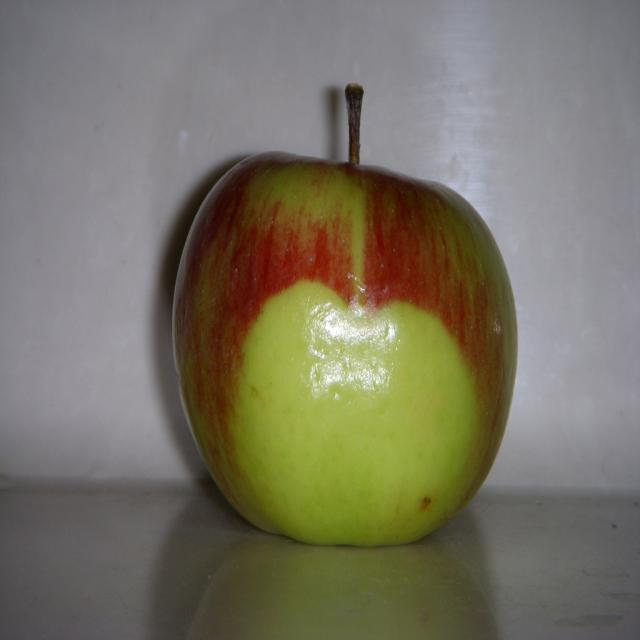Healty Apple: (172, 78, 518, 547)
